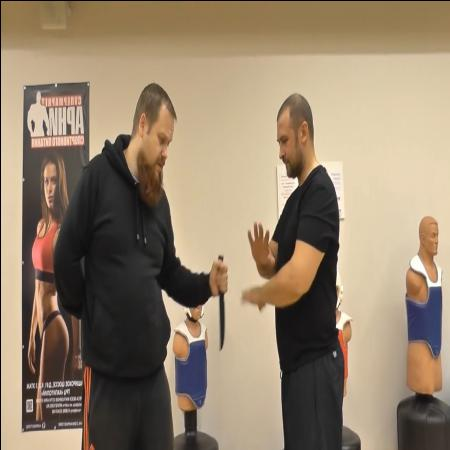long weapon: (212, 252, 228, 354)
